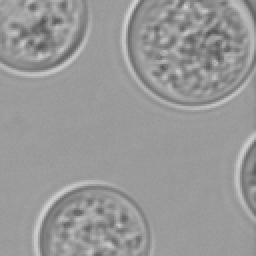picoshell: (120, 0, 252, 110), (32, 180, 152, 254), (234, 130, 254, 220)
